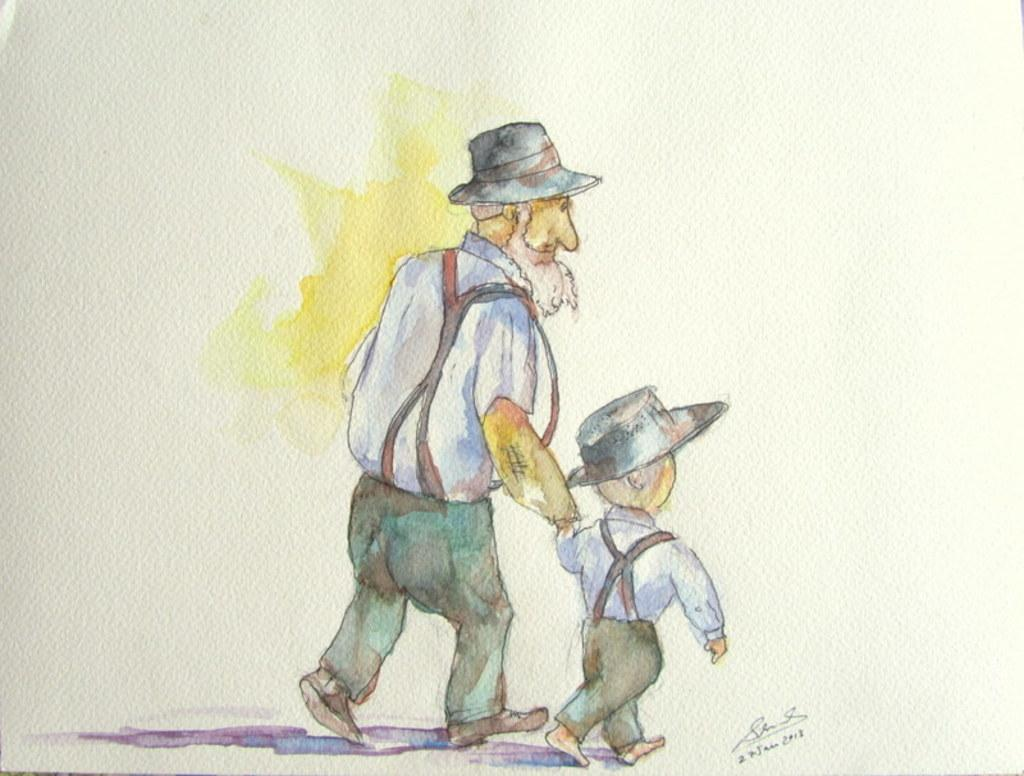Hat: (562, 382, 730, 488), (445, 118, 602, 208)
